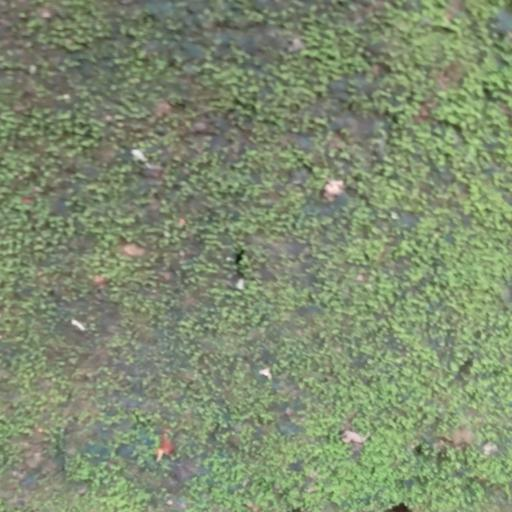algae: (11, 4, 512, 512)
